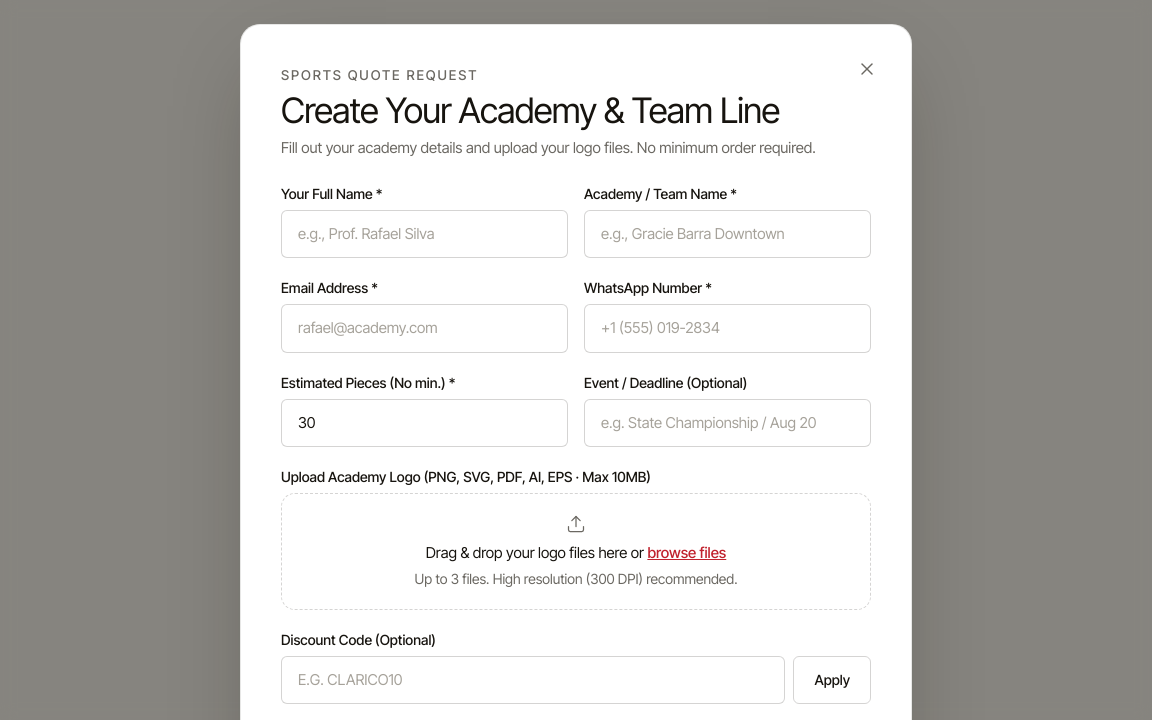
QuoteFormModal Component › should apply discount code successfully
The width and height of the screenshot is (1152, 720).
Type "CLARICO10" into the field with placeholder "e.g. CLARICO10" at point(533, 680), box [281,656,786,704]
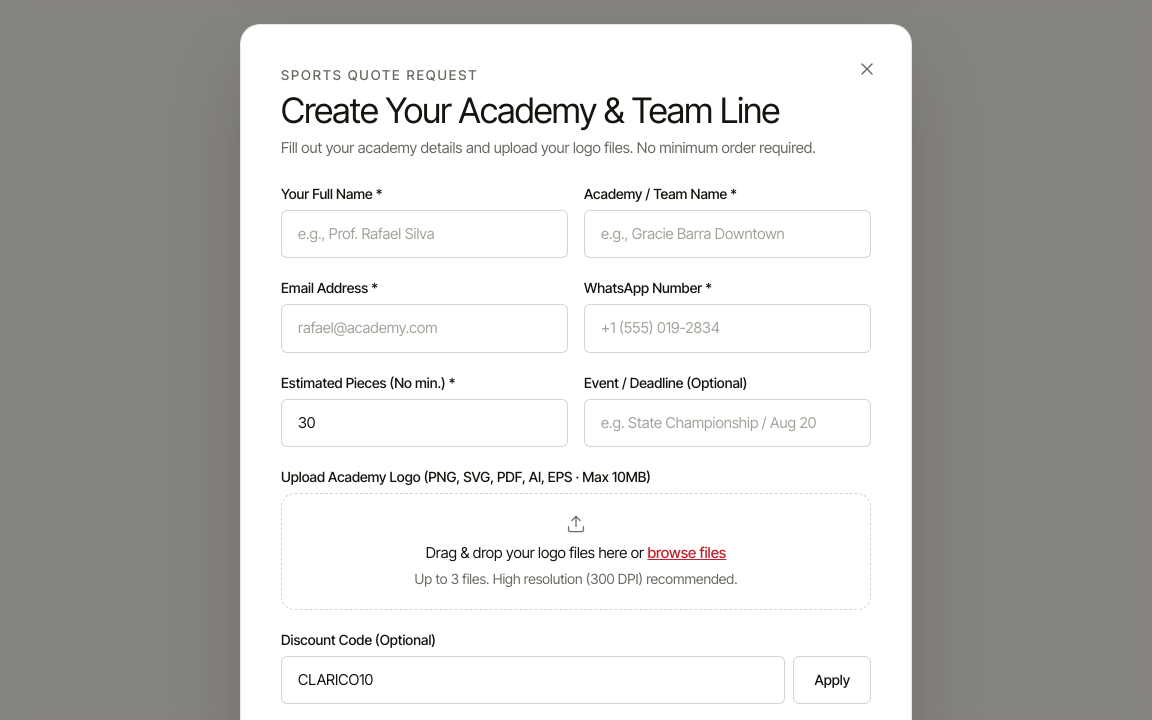
Click the button "Apply" at point(832, 680), box [794,656,871,704]
(page scrolled)
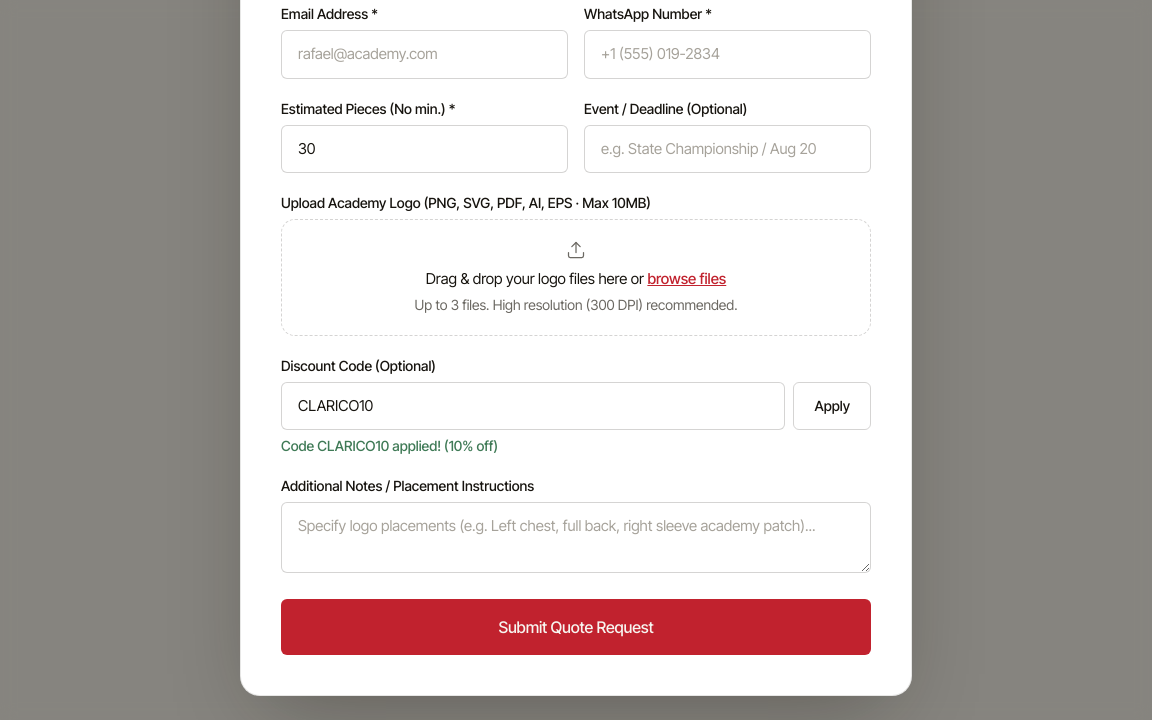
Now the text "Code CLARICO10 applied! (10% off)" is shown, box [281,437,498,454]
